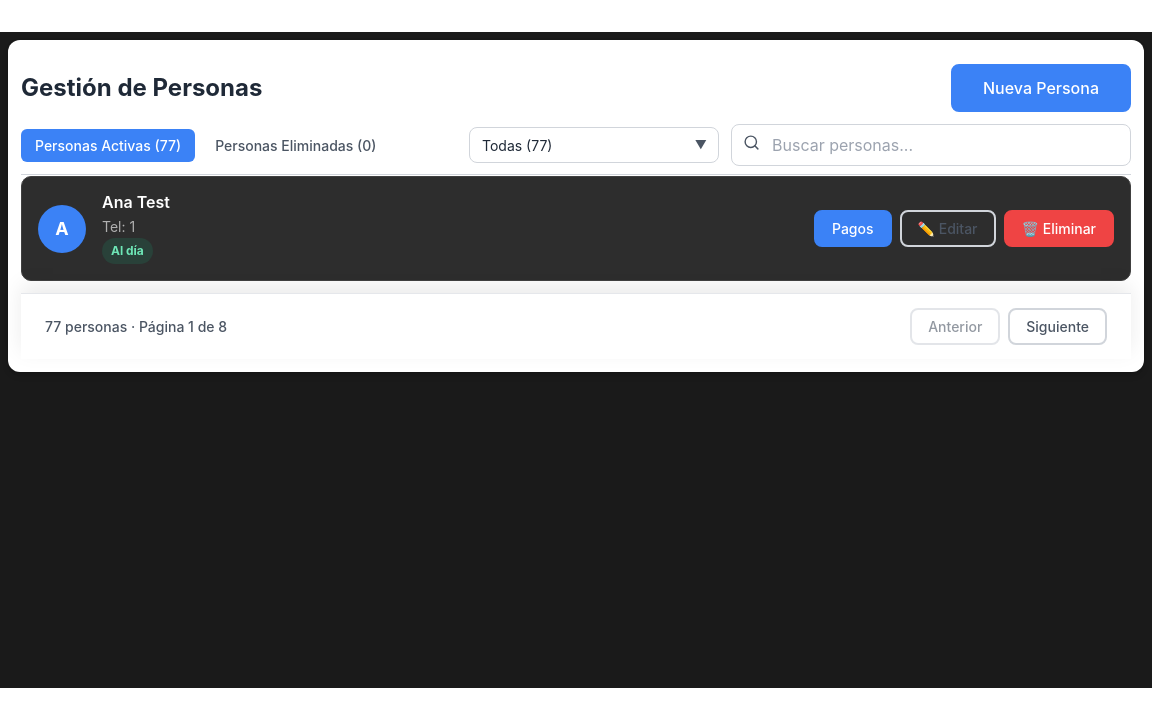
Test: paginación compartida en catálogos › Personas muestra el total del backend, pagina y reemplaza el total al buscar
expect the text "77 personas · Página 1 de 8" is shown: met, box [45, 316, 227, 337]
Click the button "Siguiente" at x=1058, y=327, box [1008, 308, 1107, 345]
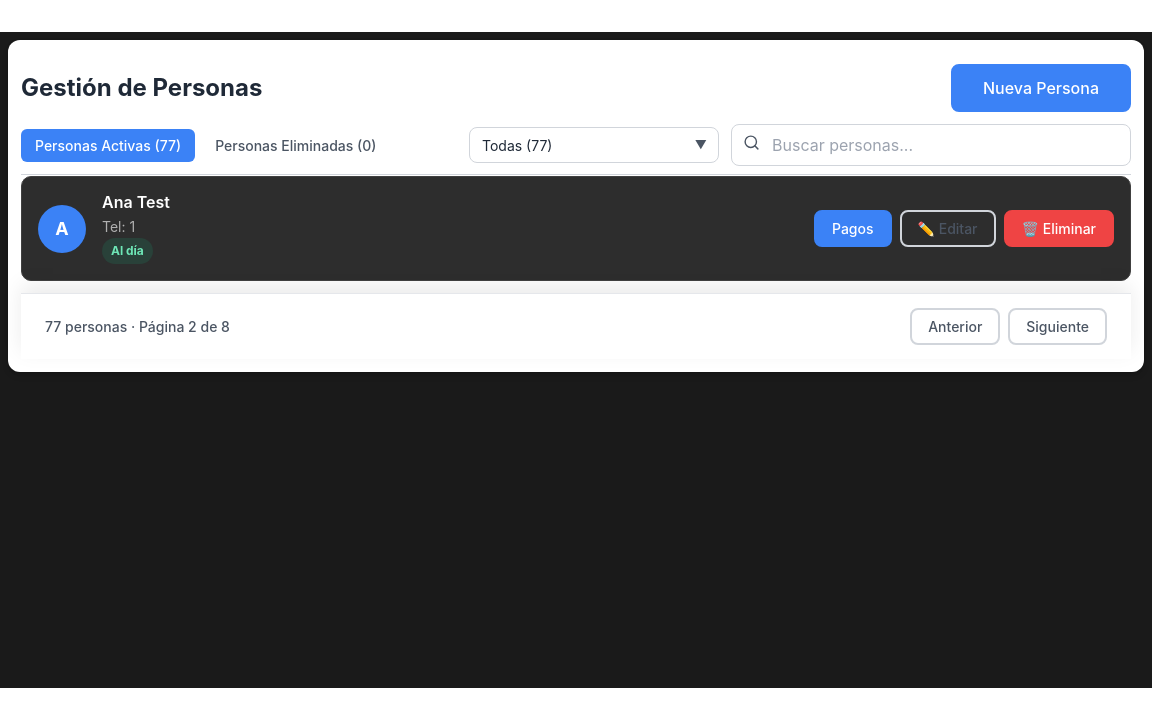
Type "Ana" into the field with placeholder "Buscar personas..." at x=931, y=145, box [731, 124, 1131, 166]
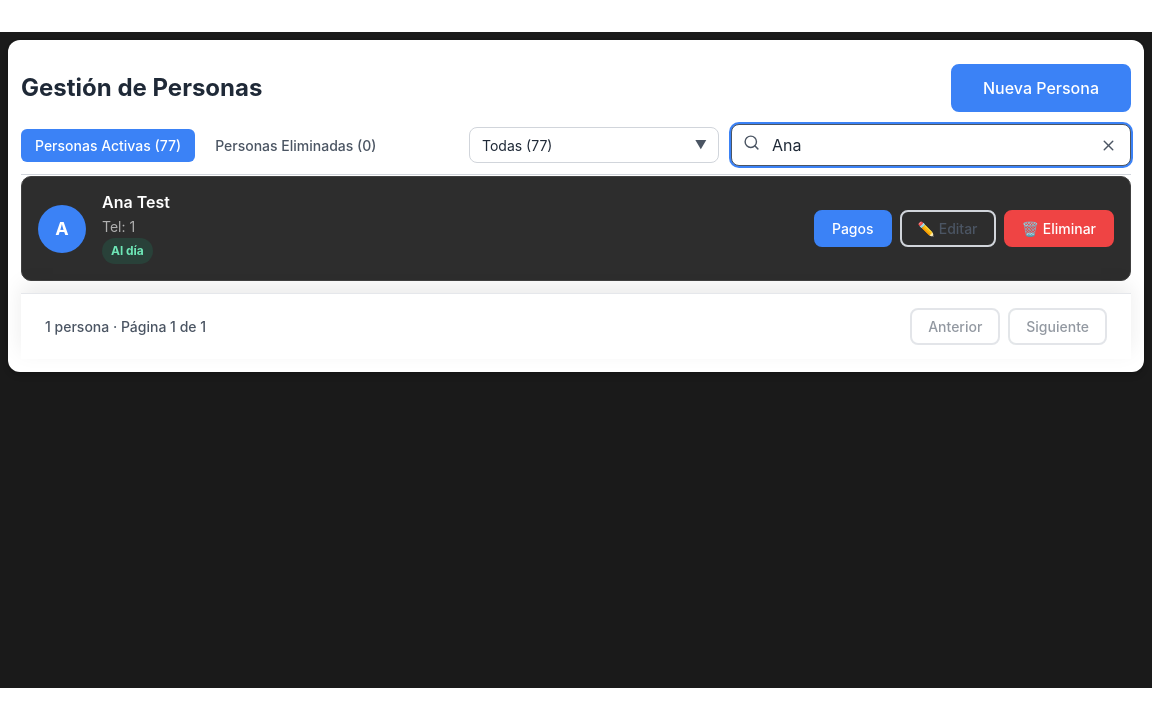
expect the text "1 persona · Página 1 de 1" is shown: met, box [45, 316, 206, 337]
